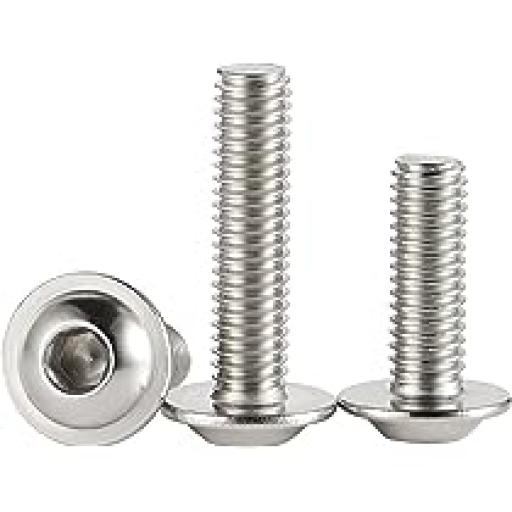Hex-Allen: (6, 268, 169, 447)
